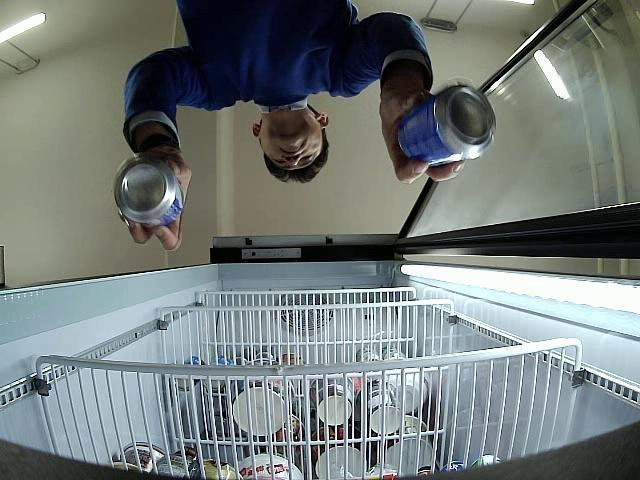13_pocariSweat: (396, 82, 498, 163), (114, 156, 183, 228)
